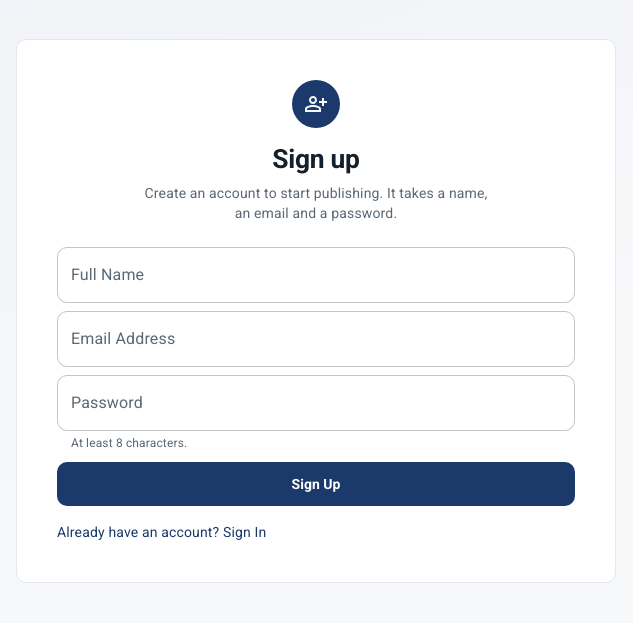
Scenario: <Signup /> › reports missing values
Click the button "Sign Up" at (316,484), box [57, 462, 575, 506]
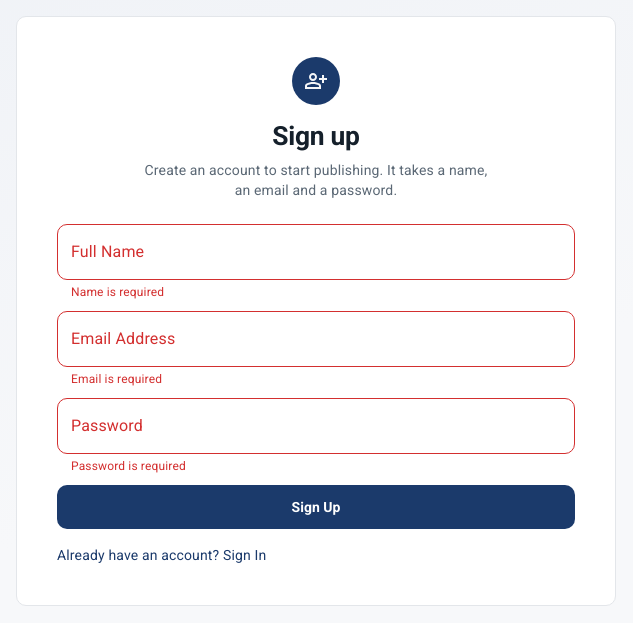
expect the text "Name is required" is shown: met, box [71, 285, 164, 299]
expect the text "Email is required" is shown: met, box [71, 372, 162, 386]
expect the text "Password is required" is shown: met, box [71, 459, 186, 473]
